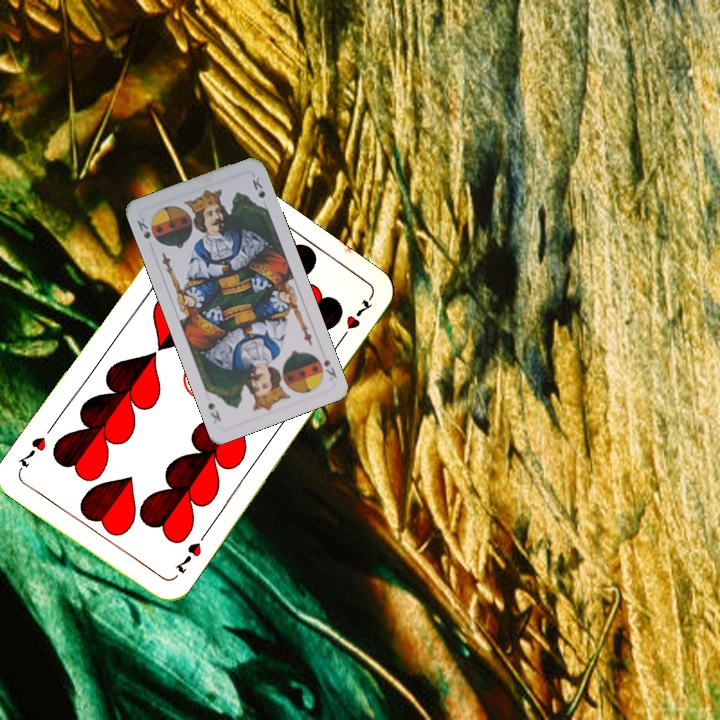H7: (170, 538, 204, 576)
SK: (320, 354, 339, 385), (133, 213, 153, 242)
